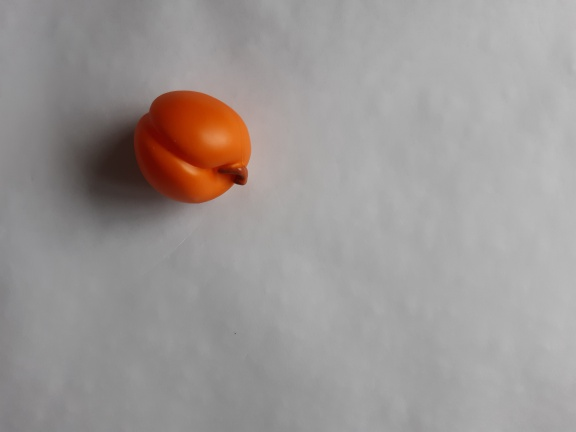apricot: (125, 84, 263, 211)
